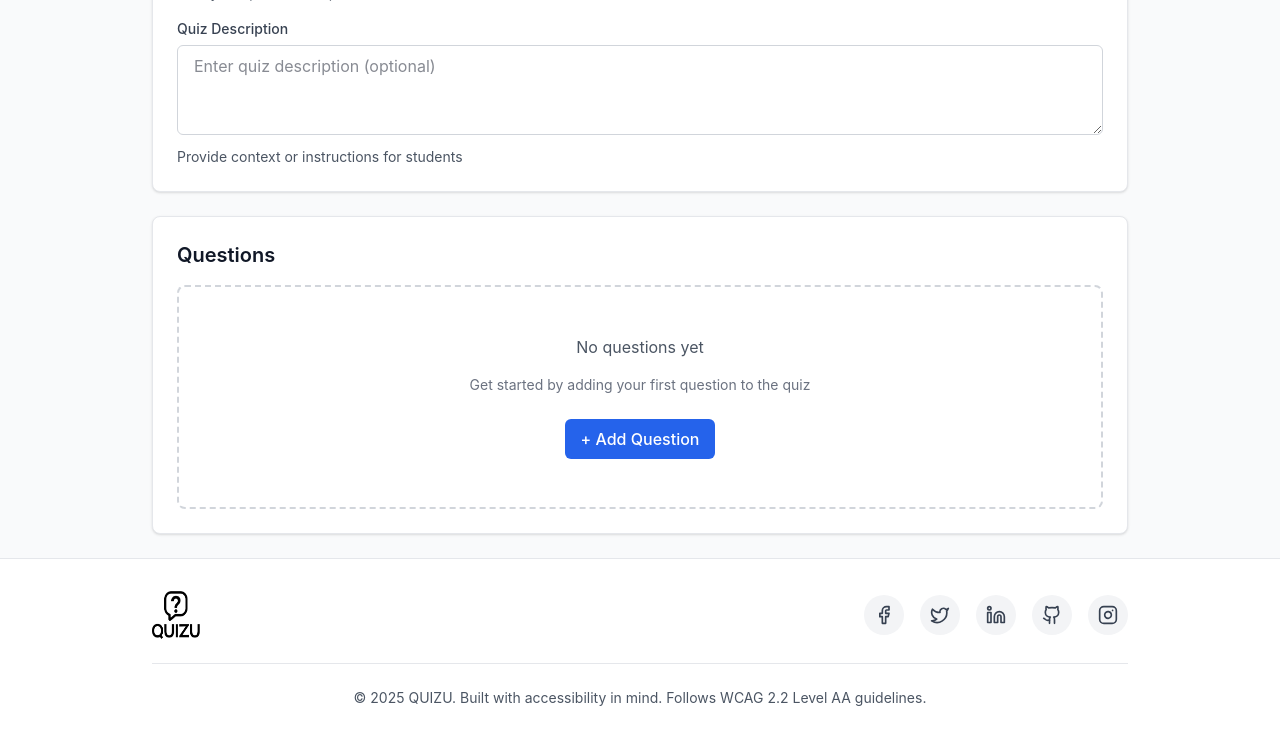
it: Quiz Builder Integration Tests › Validation Blocks Invalid Quiz › should block publishing when quiz has no title
(page scrolled)
Click the button with aria-label "add first question" at (640, 439), box [564, 419, 715, 459]
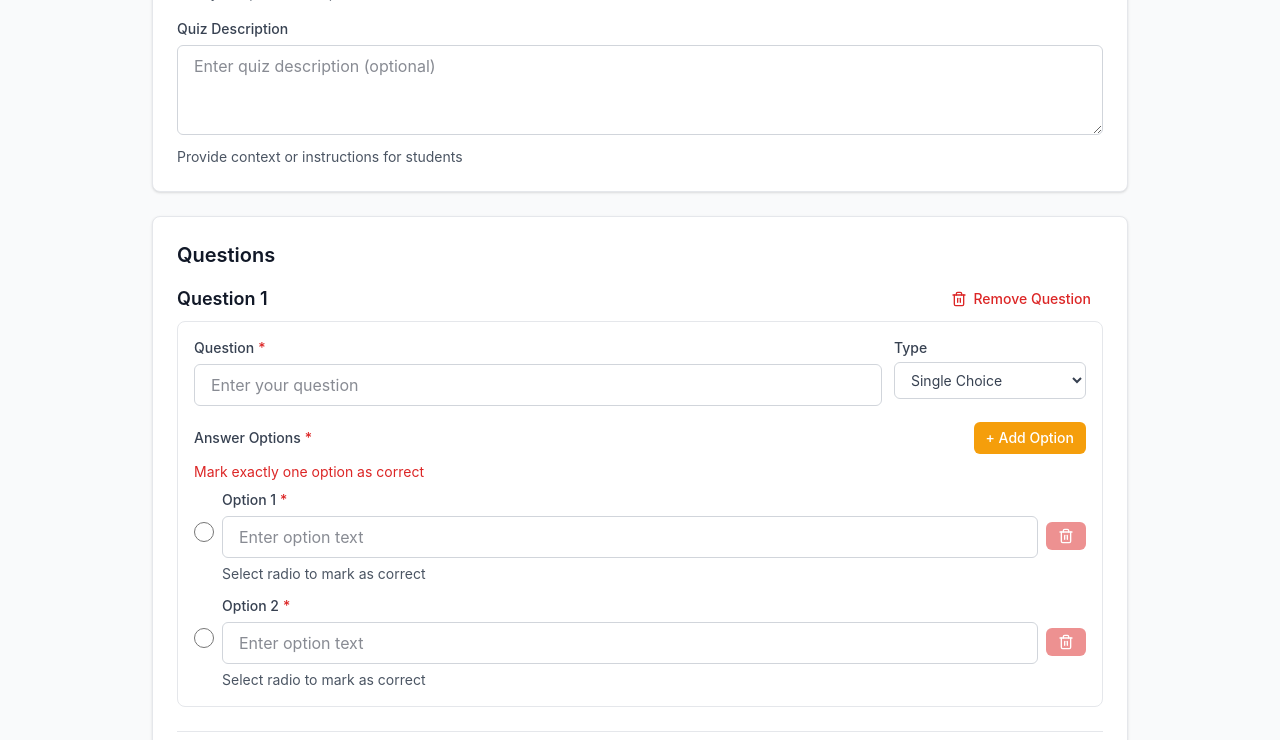
Type "What is your favorite color?" into the field named "question required" at (538, 385), box [194, 364, 882, 406]
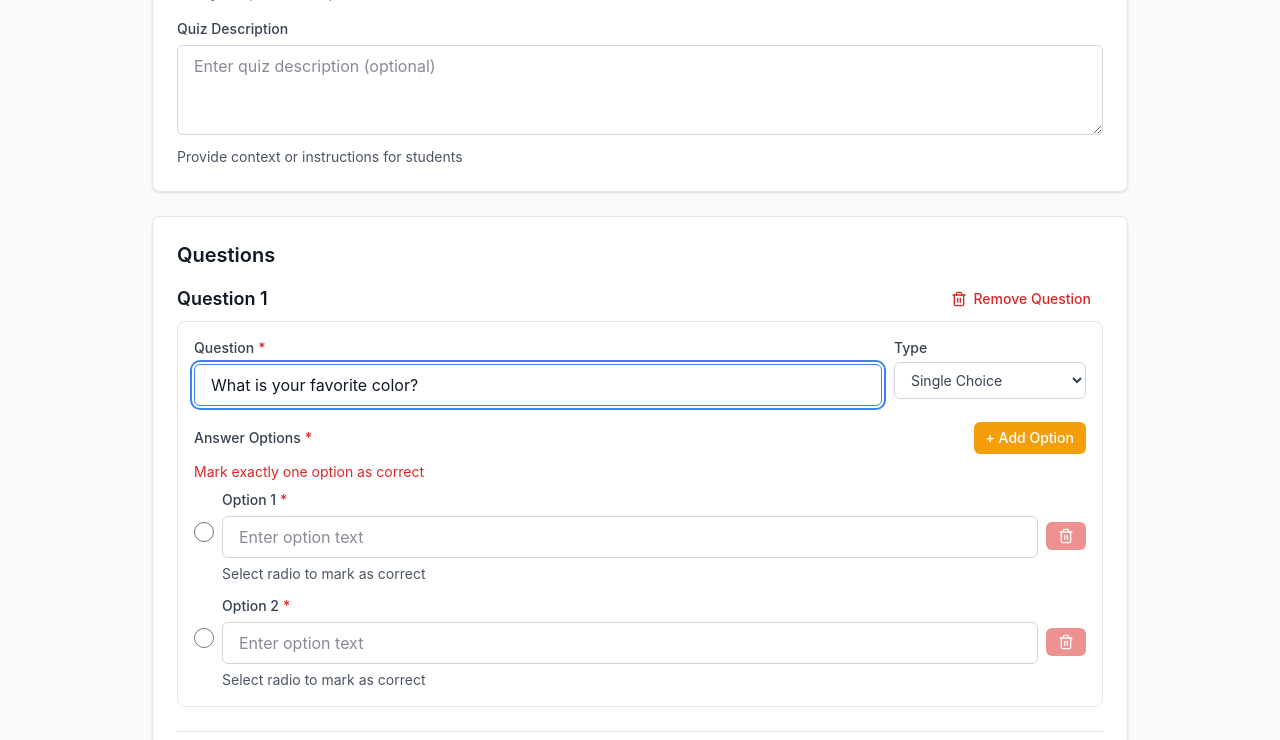
Type "Red" into the field labelled "Option 1*" at (630, 537), box [222, 516, 1038, 558]
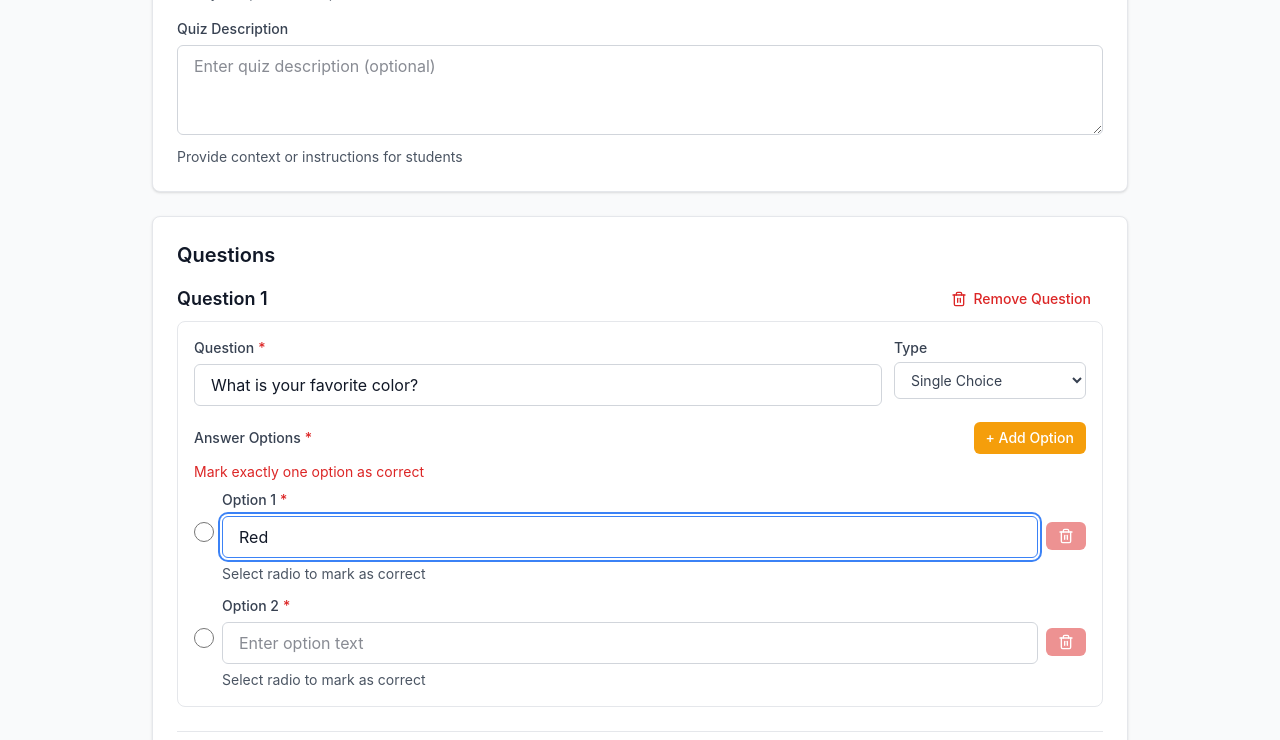
Type "Blue" into the field labelled "Option 2*" at (630, 643), box [222, 622, 1038, 664]
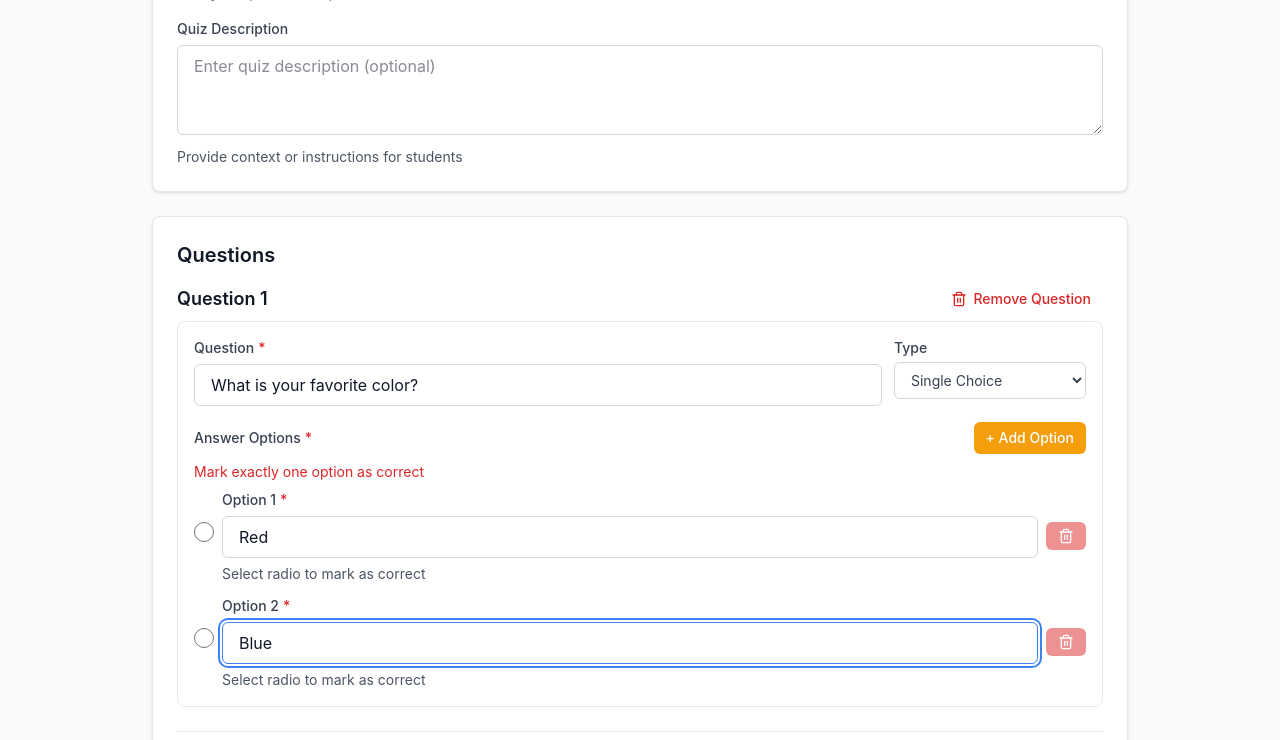
Note: Mark first option as correct
Click the radio button named "Mark \"Red\" as correct answer" at (204, 532), box [194, 522, 214, 542]
(page scrolled)
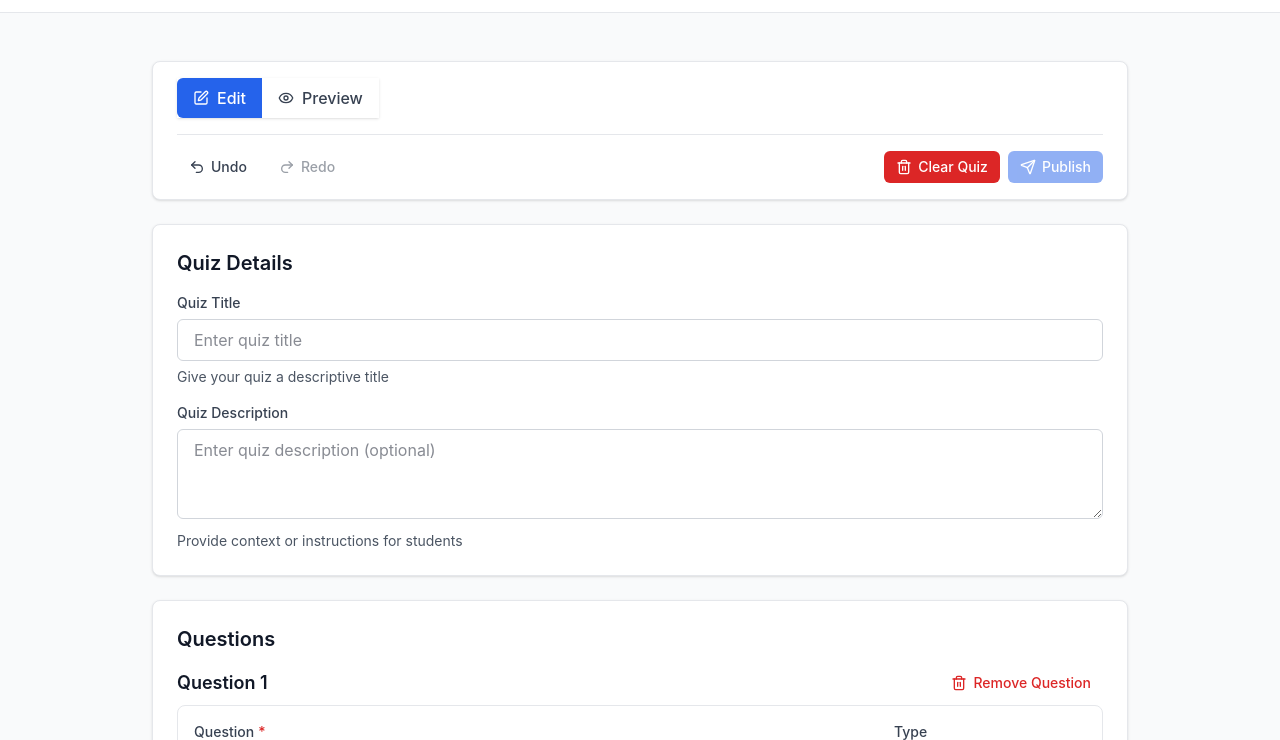
expect the button "Publish" is disabled: met, box [1008, 151, 1103, 183]
Type "Color Quiz" into the field labelled "Quiz Title" at (640, 340), box [177, 319, 1103, 361]
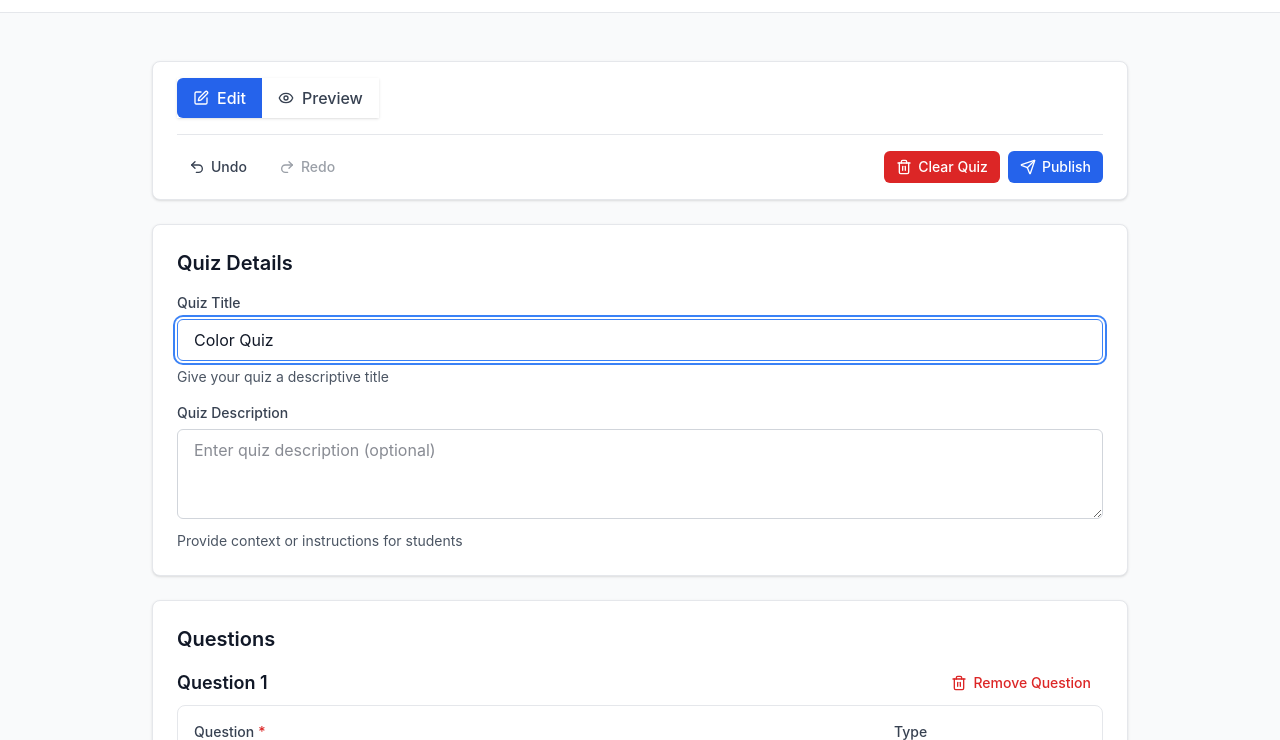
expect the button "Publish" is enabled: met, box [1008, 151, 1103, 183]
